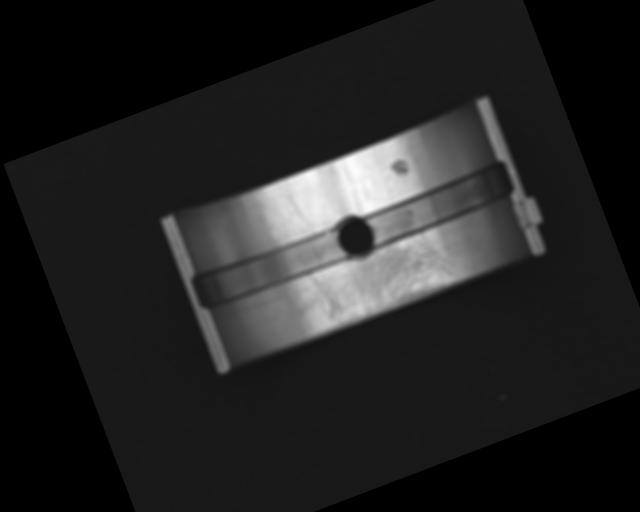bruise: (388, 155, 412, 180)
gap: (190, 223, 349, 313), (361, 161, 516, 248)
hole: (330, 211, 380, 264)
nick: (288, 190, 317, 238)
scratch: (292, 225, 458, 338)
